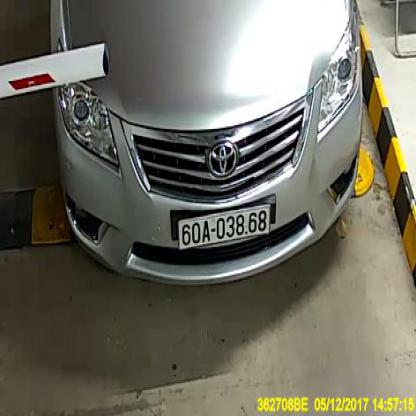biensoxe: (178, 204, 270, 252)
